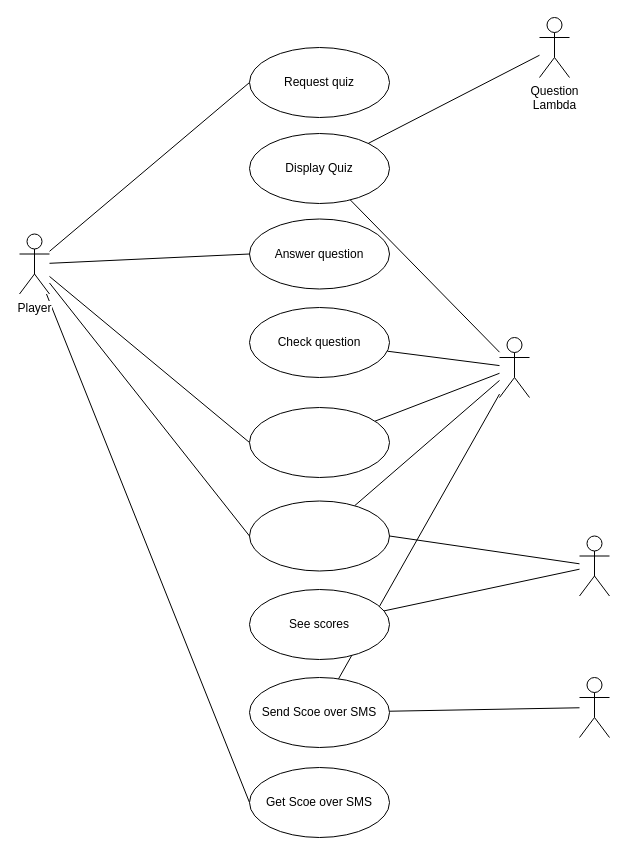
Some shapes in this 633 by 855 pixel diagram are drawn without their labels. The shapes that lost their labels are listed below. From the top down, each one's centre as x and y in pixels, then its label:
At (x=514, y=367): "App".
At (x=319, y=442): "Get feedback".
At (x=319, y=535): "Save score".
At (x=594, y=565): "Score Lambda".
At (x=594, y=707): "SMS Lambda".
